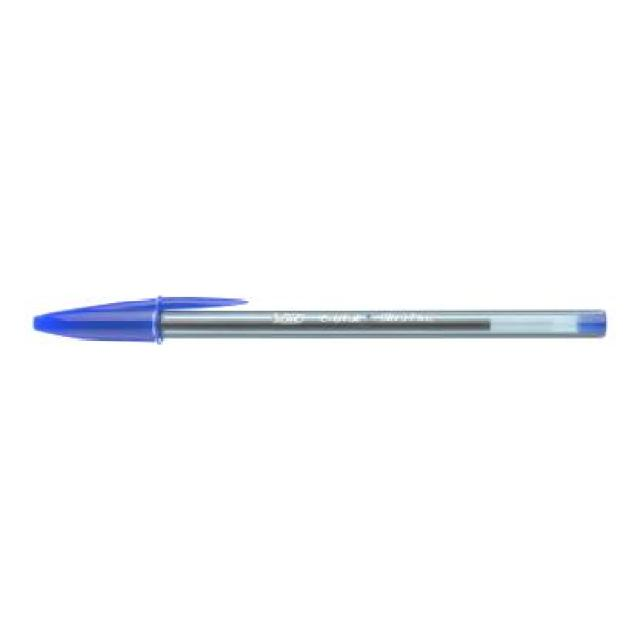pen: (36, 297, 608, 342)
